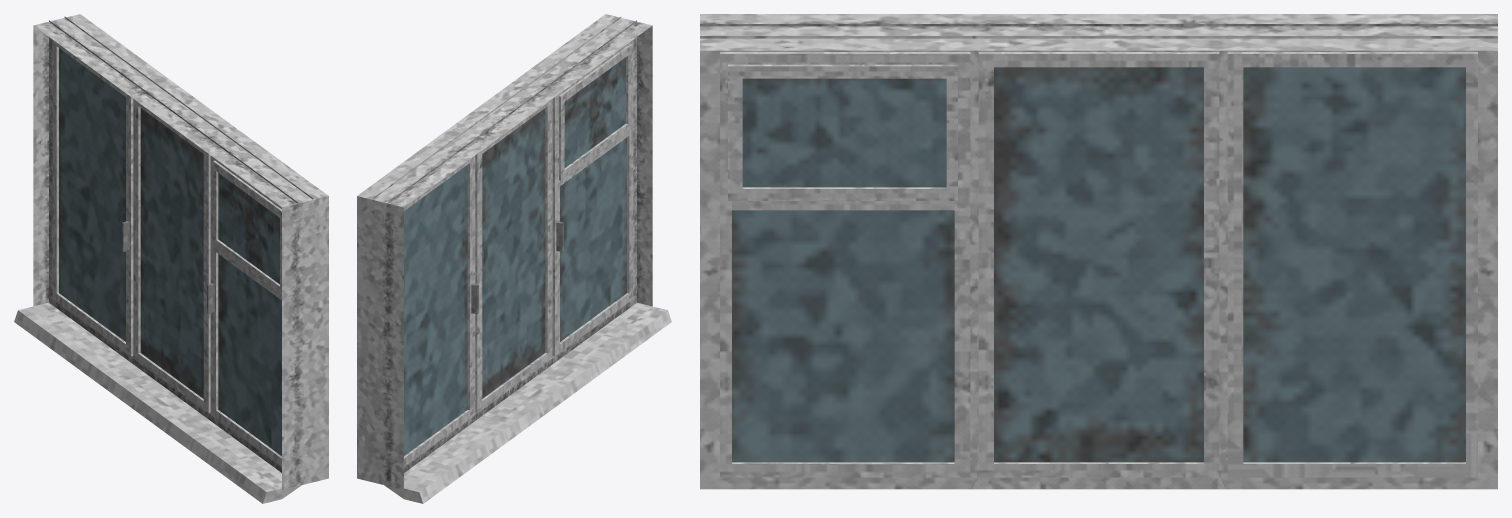
File: Bedroom Window.fbx
The picture shows the model from 3 angles, left to right: view 1: azimuth 30°, elevation 25°; view 2: azimuth 150°, elevation 25°; view 3: azimuth 270°, elevation 25°; orthographic projection. The views are drawn at different scales.
Parts seen in each view (by area): view 1: Window_BedRoom_Glass, Window_BedRoom_Frame_Walls, Window_BedRoom_Stvorki, Window_Bedroom_Podokonik, Window_BedRoom_Frame, Window_Bedroom_Glass_Small, Window_Bedroom_Stvorki_Small; view 2: Window_BedRoom_Glass, Window_BedRoom_Frame_Walls, Window_BedRoom_Stvorki, Window_Bedroom_Podokonik, Window_BedRoom_Frame, Window_Bedroom_Glass_Small, Window_Bedroom_Stvorki_Small; view 3: Window_BedRoom_Glass, Window_BedRoom_Stvorki, Window_BedRoom_Frame, Window_BedRoom_Frame_Walls, Window_Bedroom_Glass_Small 2, Window_Bedroom_Stvorki_Small 2.
Boxes of the visible parts, x1,y1,x2,y2 form: Window_BedRoom_Glass: (59, 48, 281, 455); Window_BedRoom_Frame_Walls: (33, 14, 328, 489); Window_BedRoom_Stvorki: (53, 40, 281, 466); Window_Bedroom_Podokonik: (14, 302, 301, 503); Window_BedRoom_Frame: (49, 16, 313, 472); Window_Bedroom_Glass_Small: (218, 173, 279, 284); Window_Bedroom_Stvorki_Small: (213, 160, 281, 295); Window_BedRoom_Glass: (404, 108, 626, 455); Window_BedRoom_Frame_Walls: (357, 14, 652, 489); Window_BedRoom_Stvorki: (404, 40, 632, 466); Window_Bedroom_Podokonik: (384, 302, 671, 503); Window_BedRoom_Frame: (372, 16, 636, 472); Window_Bedroom_Glass_Small: (564, 57, 625, 167); Window_Bedroom_Stvorki_Small: (559, 43, 632, 180); Window_BedRoom_Glass: (732, 67, 1465, 462); Window_BedRoom_Stvorki: (720, 52, 1477, 477); Window_BedRoom_Frame: (700, 24, 1497, 489); Window_BedRoom_Frame_Walls: (700, 14, 1497, 50); Window_Bedroom_Glass_Small 2: (742, 78, 946, 187); Window_Bedroom_Stvorki_Small 2: (728, 64, 957, 200).
Size of the model in its own units: 0.4615 by 1.95 by 3.
2 materials, 2 textured.
